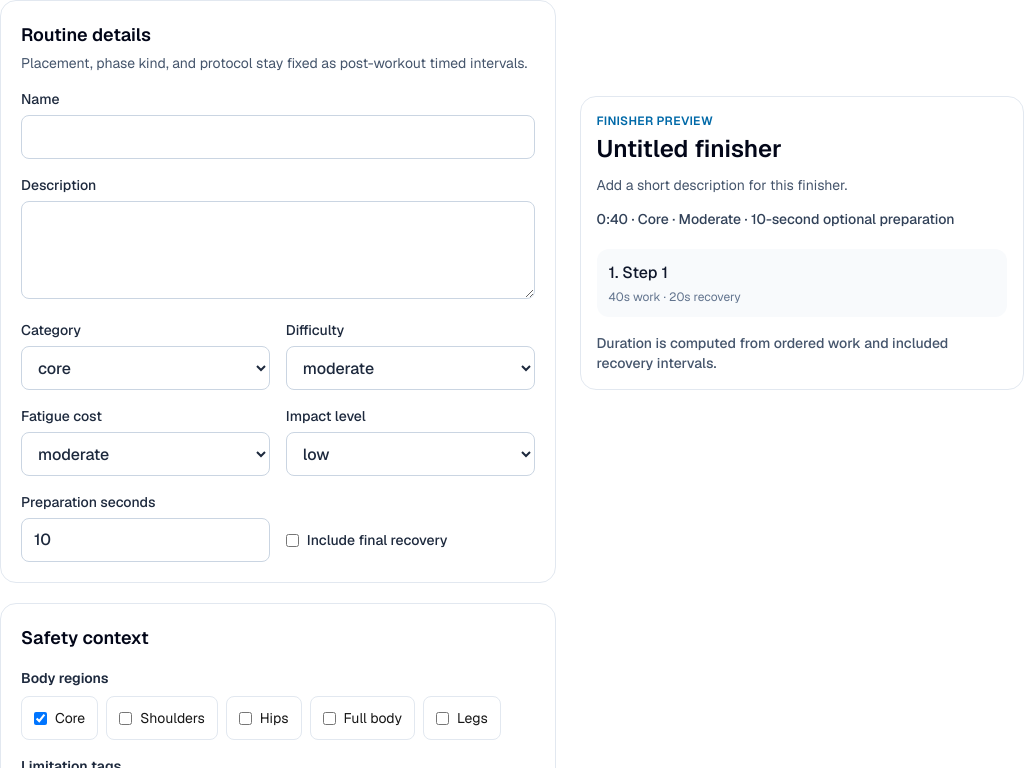
Test: FinisherRoutineEditor › updates the shared live preview and supports ordered timed steps
The width and height of the screenshot is (1024, 768).
Step 1. Type "Core reset" into the field labelled "Name" → (278, 137), box [21,115,534,159]
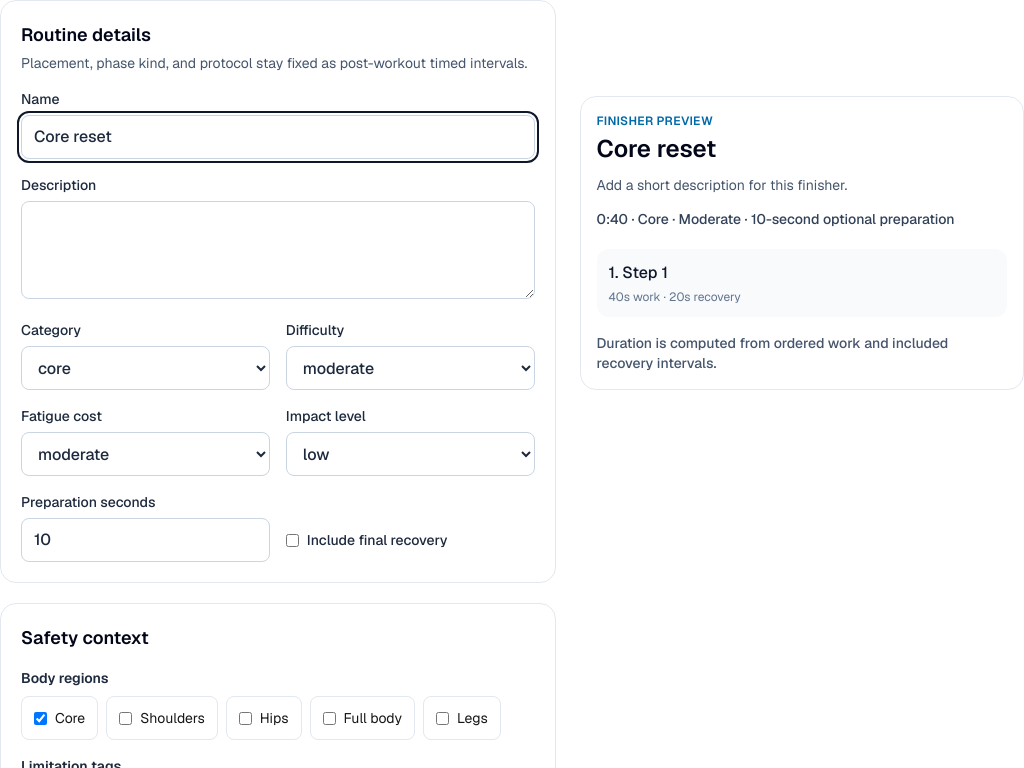
Step 2. Type "A controlled reset." into the text box labelled "Description" → (278, 250), box [21,201,534,299]
(page scrolled)
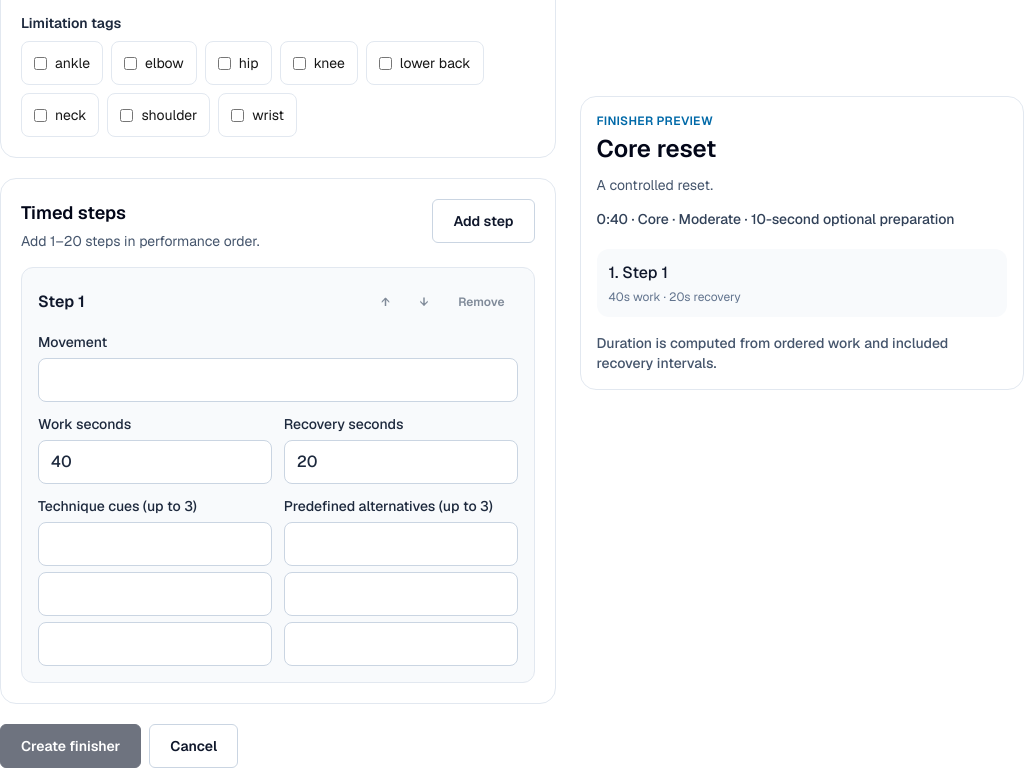
Step 3. Type "Dead bug" into the field labelled "Movement" → (278, 380), box [38,358,518,402]
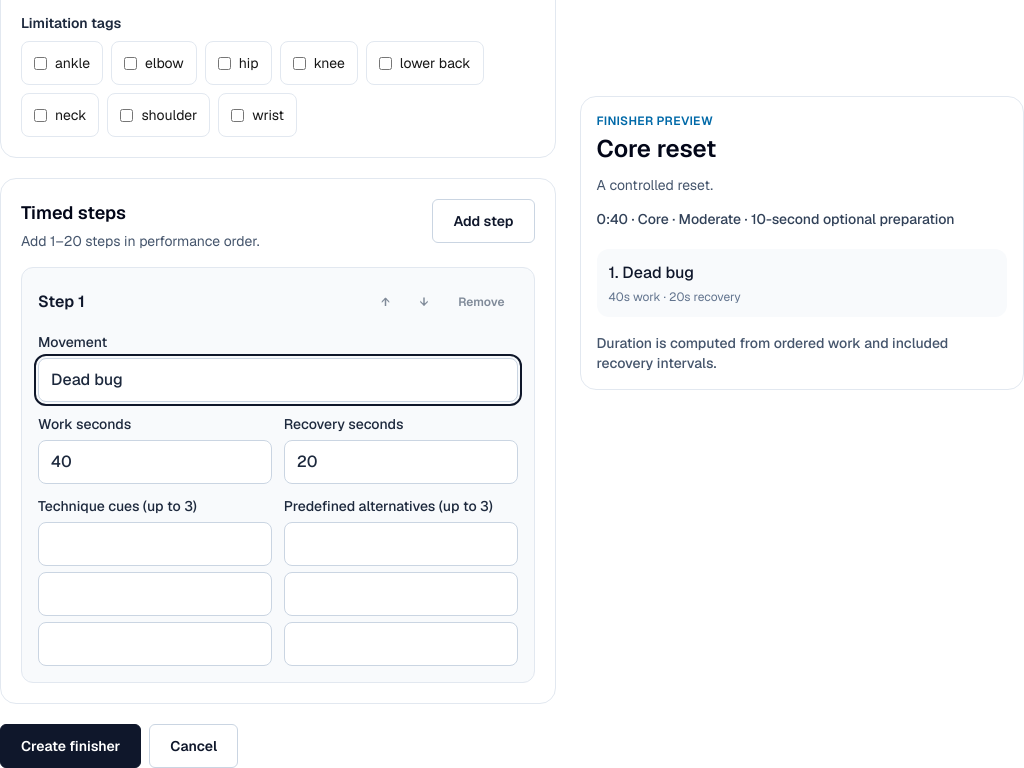
Expected: the text "0:40 · Core · Moderate · 10-second optional preparation" is shown, [596,209,1007,229]
Expected: the heading "Core reset" is shown, [596,133,716,164]
Expected: the text "1. Dead bug" is shown, [608,262,694,283]
Step 4. Click the button "Add step" → (483, 221), box [432,199,534,243]
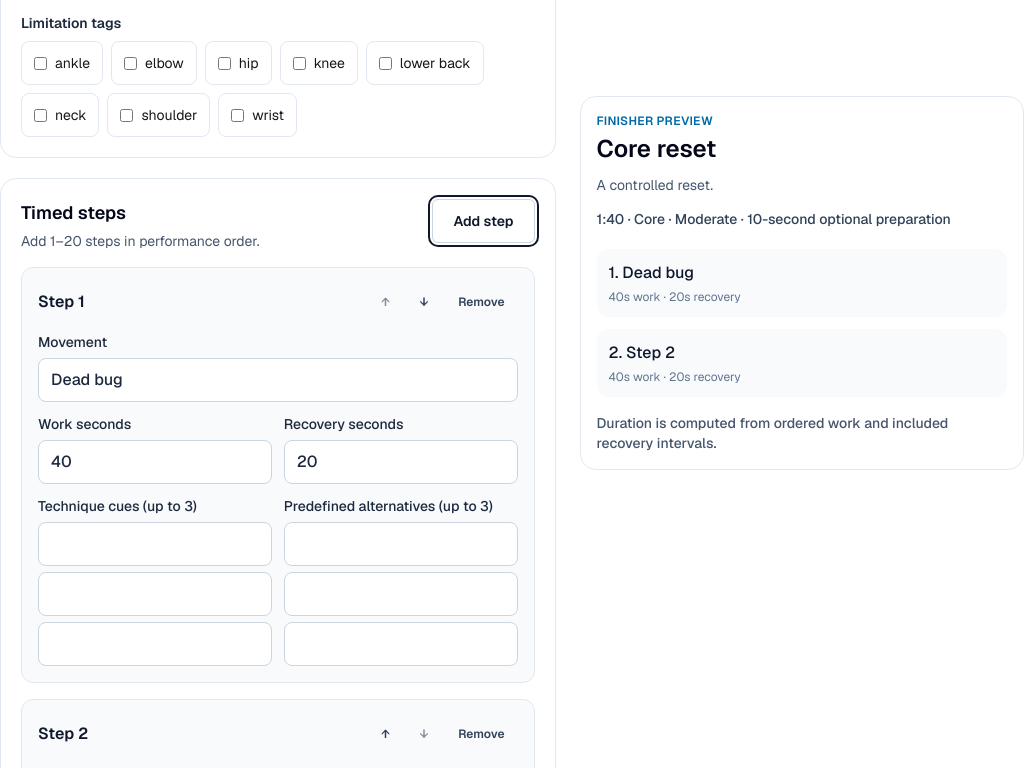
Expected: the heading "Step 2" is shown, [38,722,88,746]
Expected: the button named "Move step 2 up" is enabled, [368,716,403,752]
